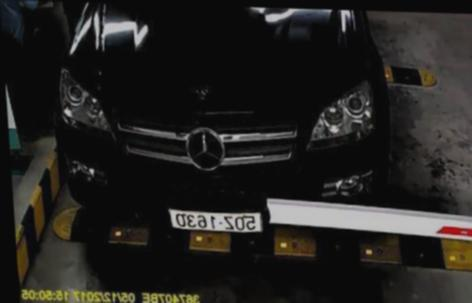License_Plate: (167, 203, 266, 235)
